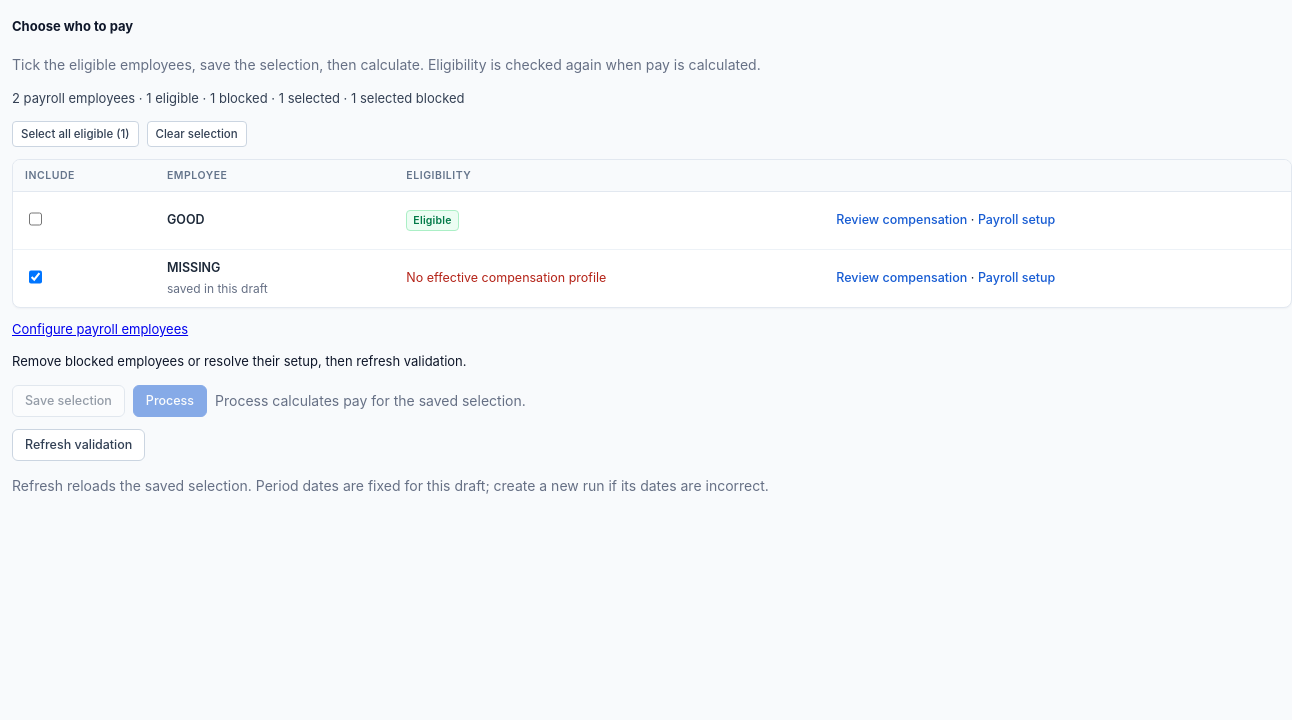
it: allows removing a previously included blocked employee
Expected: the text "No effective compensation profile" is shown, [406,270,606,285]
Click the checkbox named "Select MISSING".
click(36, 277)  # box [29,261,42,293]
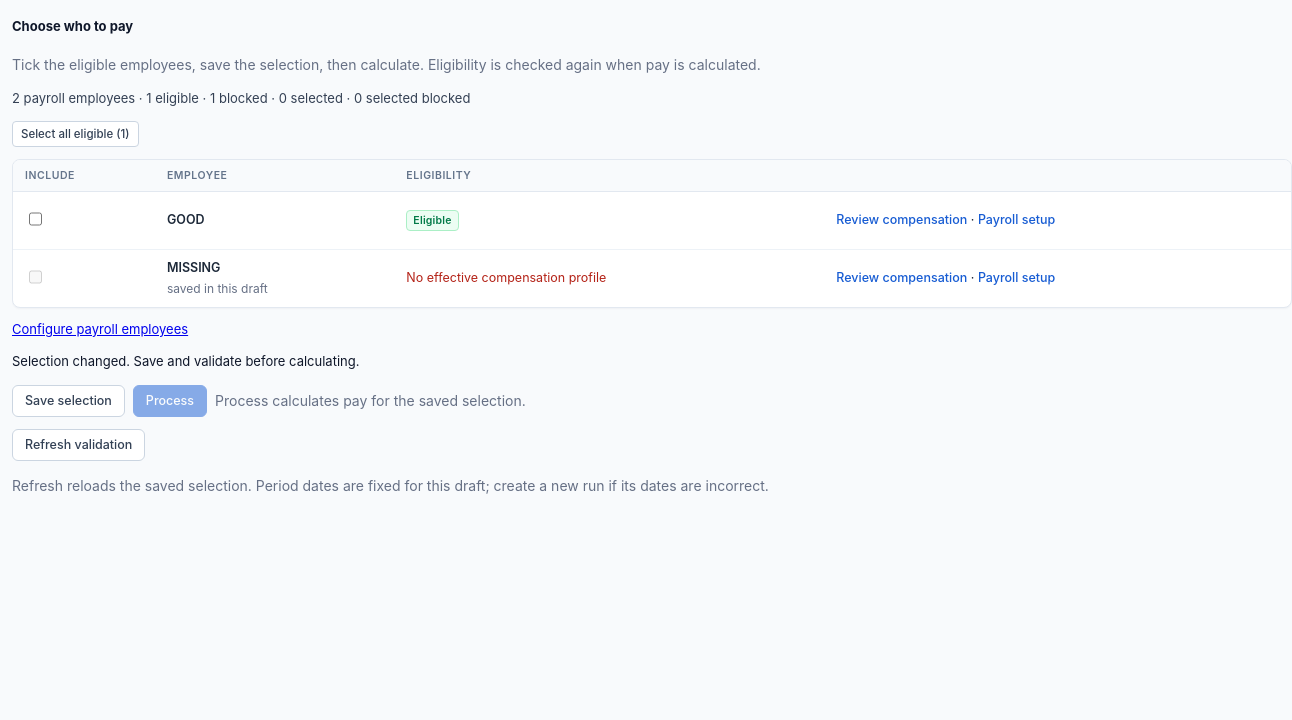
Result: the button "Save selection" is enabled at [12,385,125,417]
